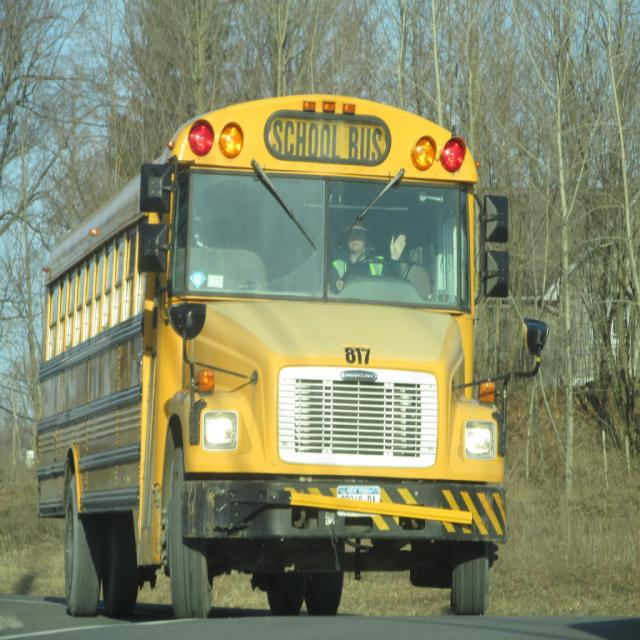Buses: (31, 83, 500, 624)
